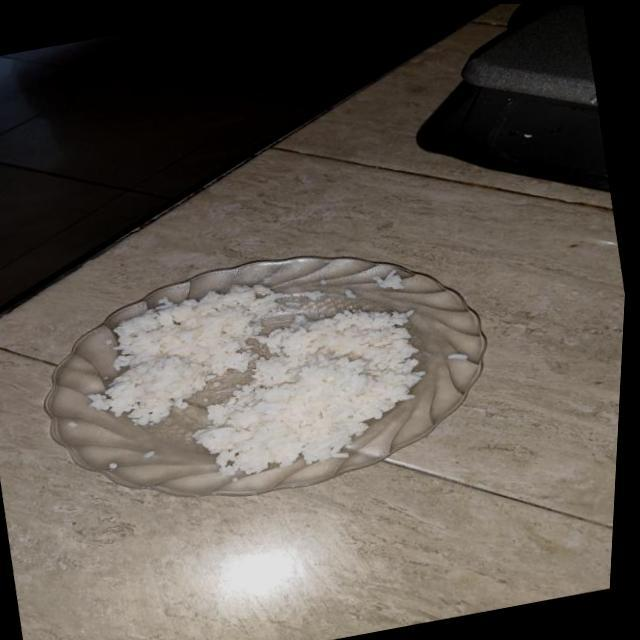nasi_putih: (193, 310, 424, 476), (90, 284, 280, 426)
